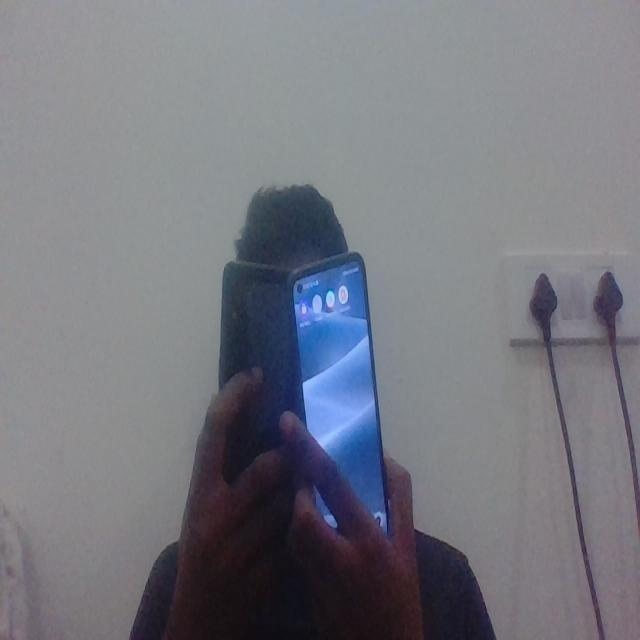Phone: (294, 249, 394, 536), (214, 260, 296, 540)
